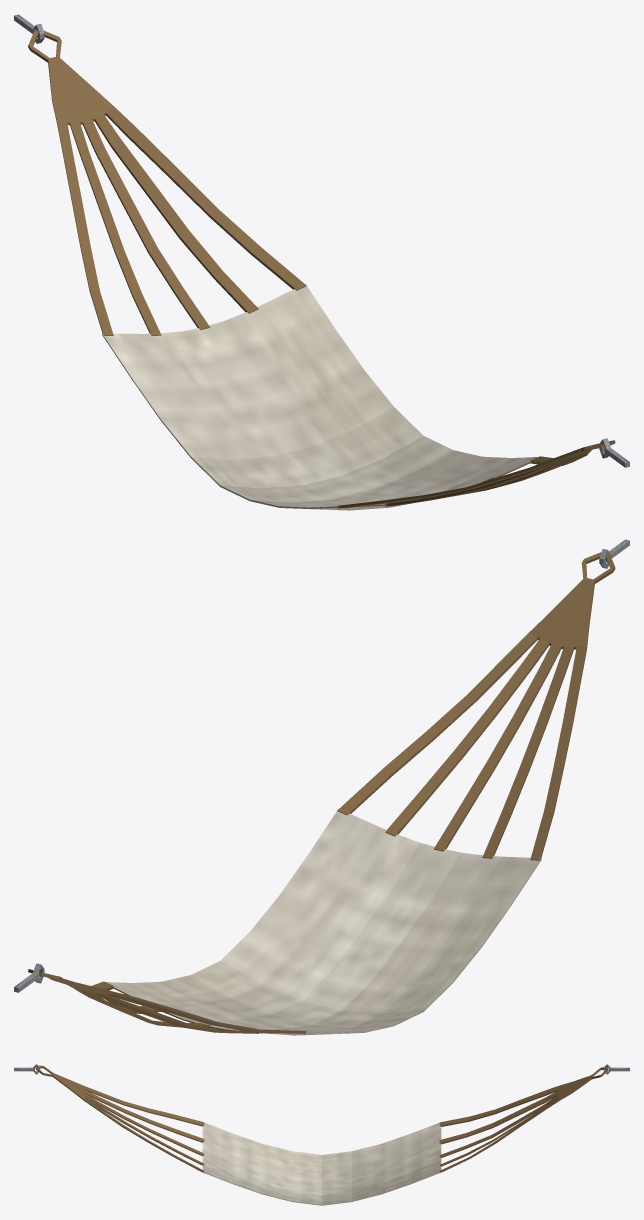
Rendered from Гамак.fbx.
3 renders of one model, top to bottom at view 1: azimuth 30°, elevation 25°; view 2: azimuth 150°, elevation 25°; view 3: azimuth 270°, elevation 25°, orthographic. The views are drawn at different scales.
Parts seen in each view (by area): view 1: Cube.003, Cube; view 2: Cube.003, Cube; view 3: Cube.003, Cube.
Part boxes in pixels (left/top/right/bottom): Cube.003: left=28, top=30, right=615, bottom=510; Cube: left=14, top=14, right=629, bottom=467; Cube.003: left=28, top=552, right=615, bottom=1035; Cube: left=14, top=539, right=629, bottom=992; Cube.003: left=35, top=1065, right=608, bottom=1205; Cube: left=14, top=1064, right=629, bottom=1074.
Size of the model in its own units: 35.82 by 42.16 by 187.
